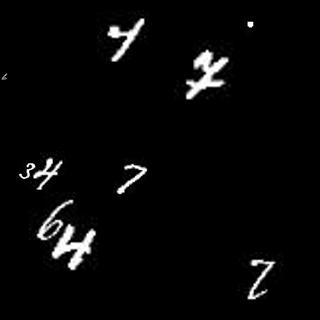dot: (244, 17, 259, 32)
four: (49, 226, 94, 270), (34, 154, 71, 193)
seven: (179, 49, 232, 98), (100, 14, 145, 62), (240, 254, 279, 291), (117, 155, 152, 195)
six: (39, 199, 74, 239), (1, 68, 13, 80)
three: (18, 163, 37, 180)
